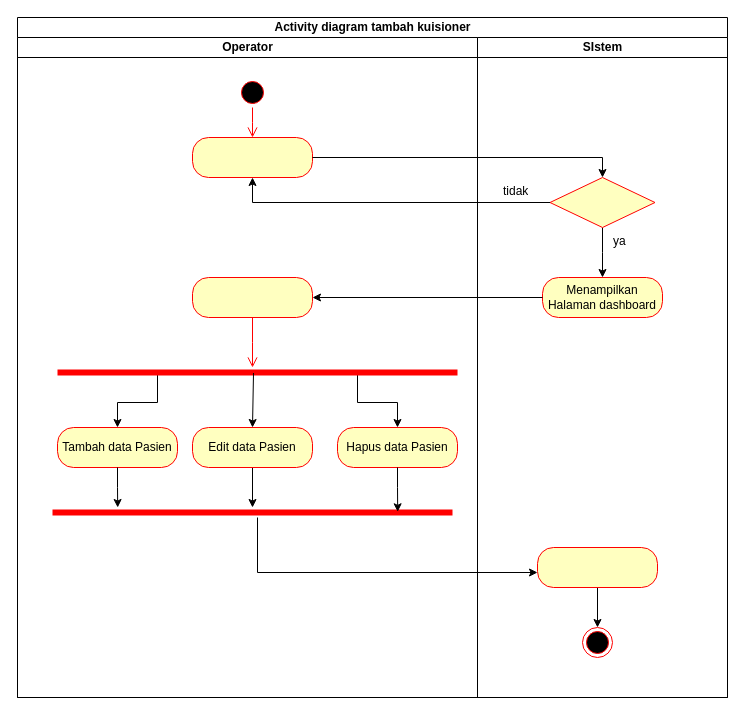
This 745x715 diagram has some shape labels left out. The shapes that lost their labels are listed below. From the top down, each one's centre as x and y in pixels, then its label:
point (252, 157): Login
point (602, 202): cek data user
point (252, 297): Mengakses menu Pasien
point (597, 567): Simpan data
